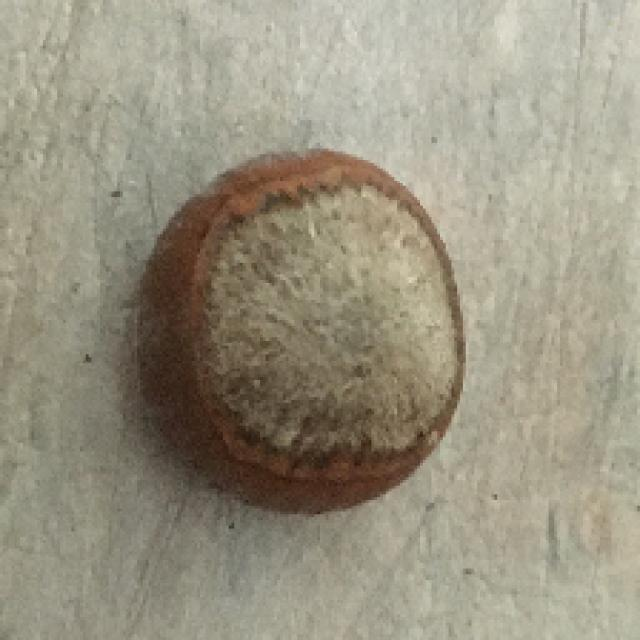qualityHazelnut: (132, 135, 470, 529)
